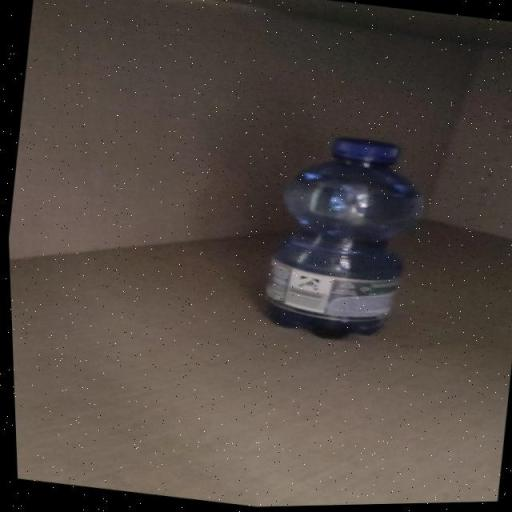plastic: (249, 124, 436, 351)
